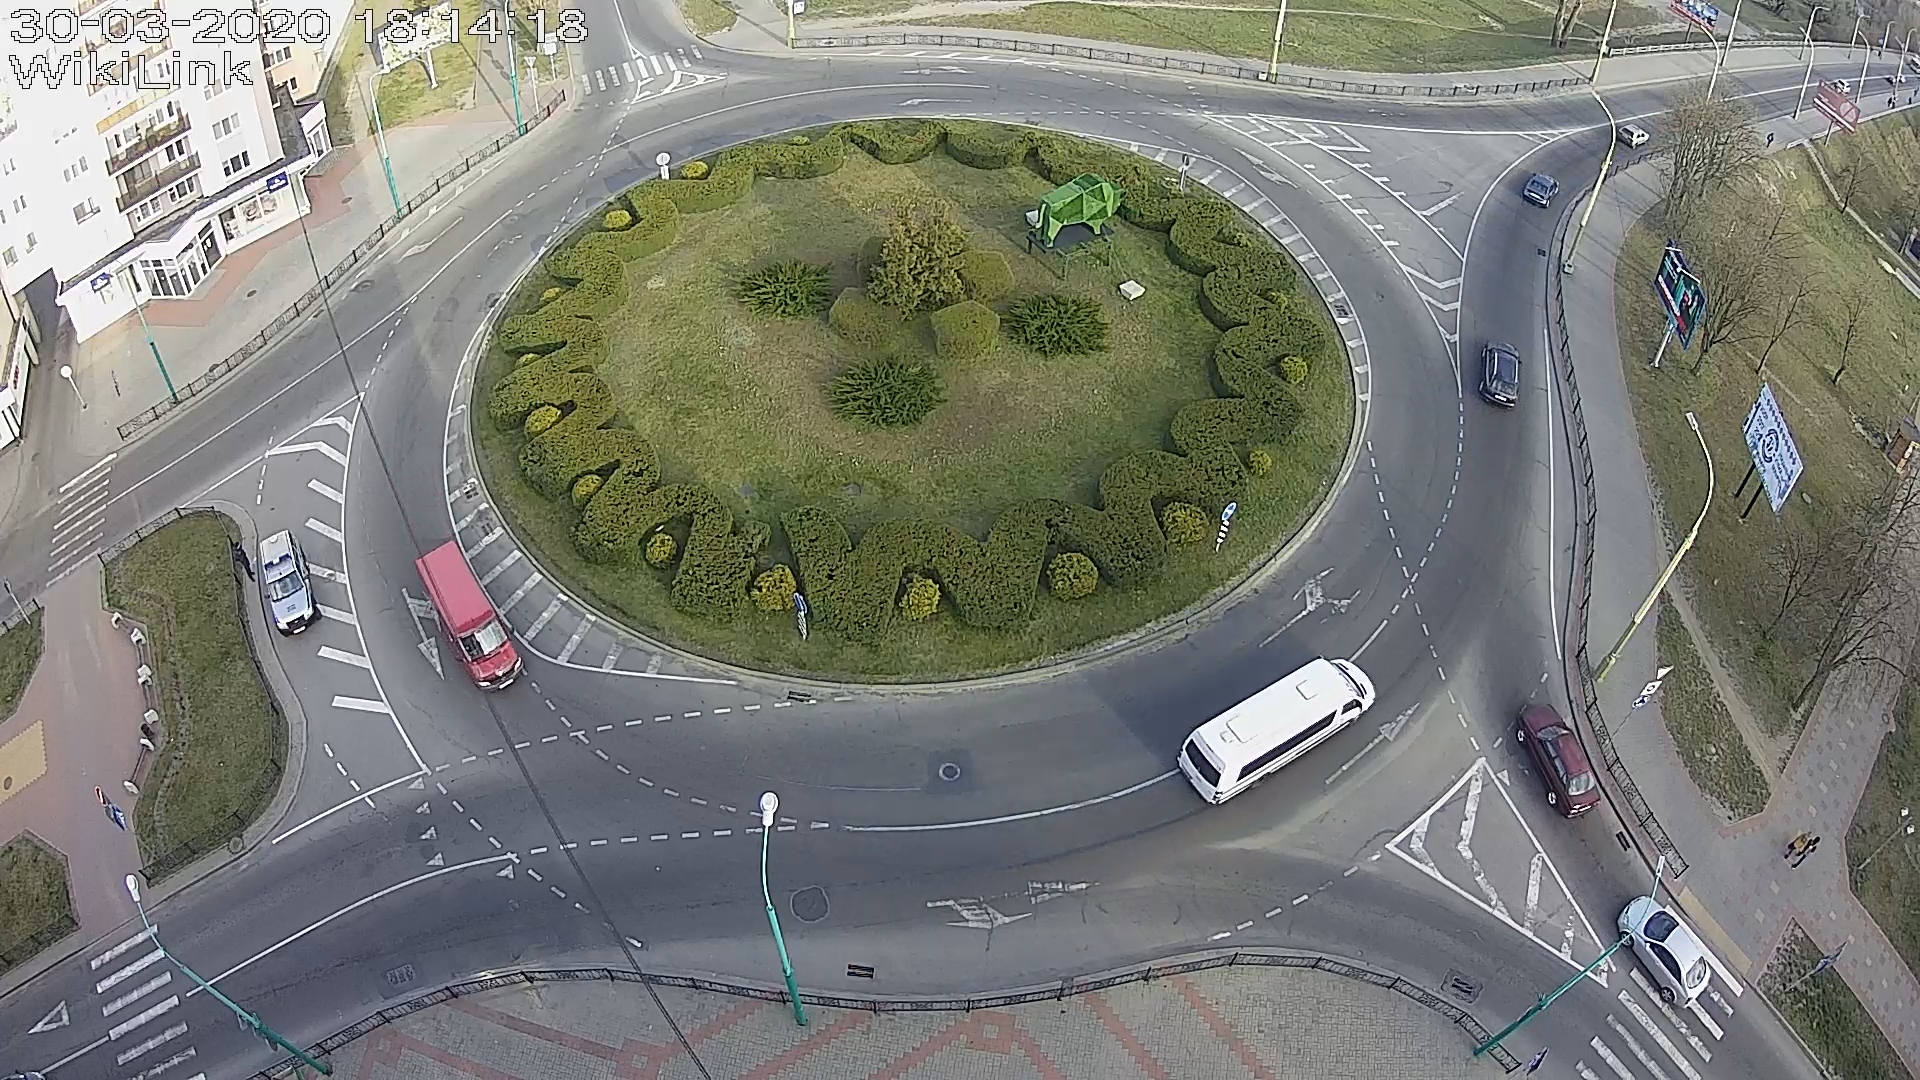car: (1176, 657, 1377, 804), (414, 541, 524, 694), (1617, 895, 1712, 1009), (1516, 703, 1602, 820), (260, 529, 322, 638), (1480, 339, 1522, 407), (1524, 171, 1559, 208), (1617, 124, 1650, 149)
